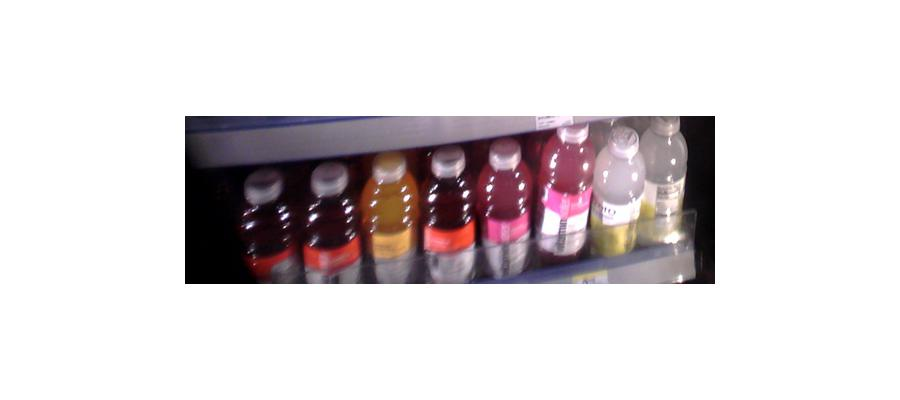bottle: (533, 118, 595, 265), (236, 163, 298, 283), (422, 151, 477, 284), (360, 155, 417, 283), (300, 169, 359, 290), (479, 142, 531, 277), (594, 126, 644, 257), (643, 114, 688, 249)
